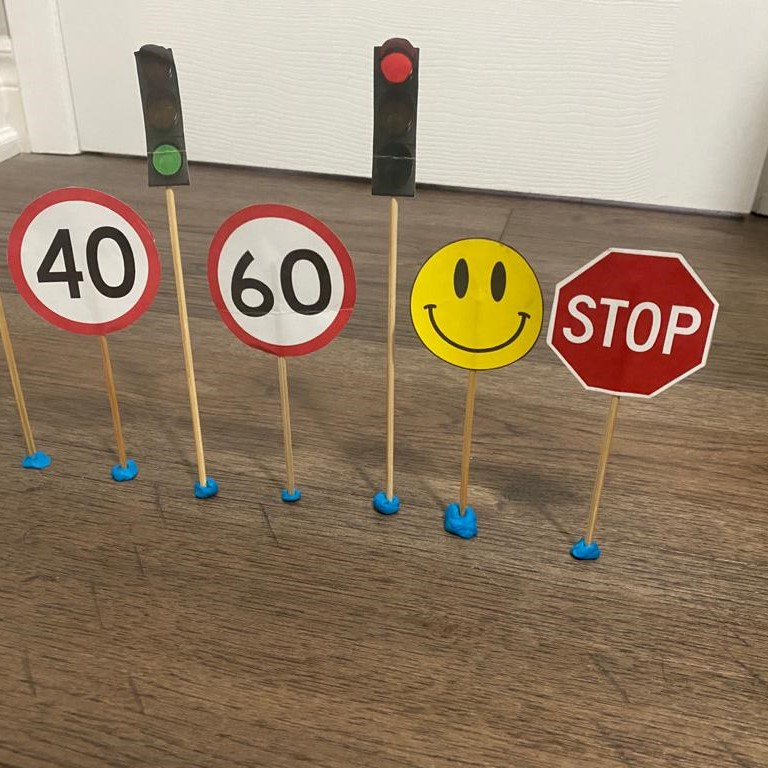Green Traffic Light: (132, 44, 193, 190)
Person: (407, 237, 542, 373)
Red Traffic Light: (370, 30, 420, 202)
Speed Limit 40: (7, 187, 162, 337)
Speed Limit 60: (203, 203, 359, 358)
Stop Sign: (544, 246, 721, 400)
